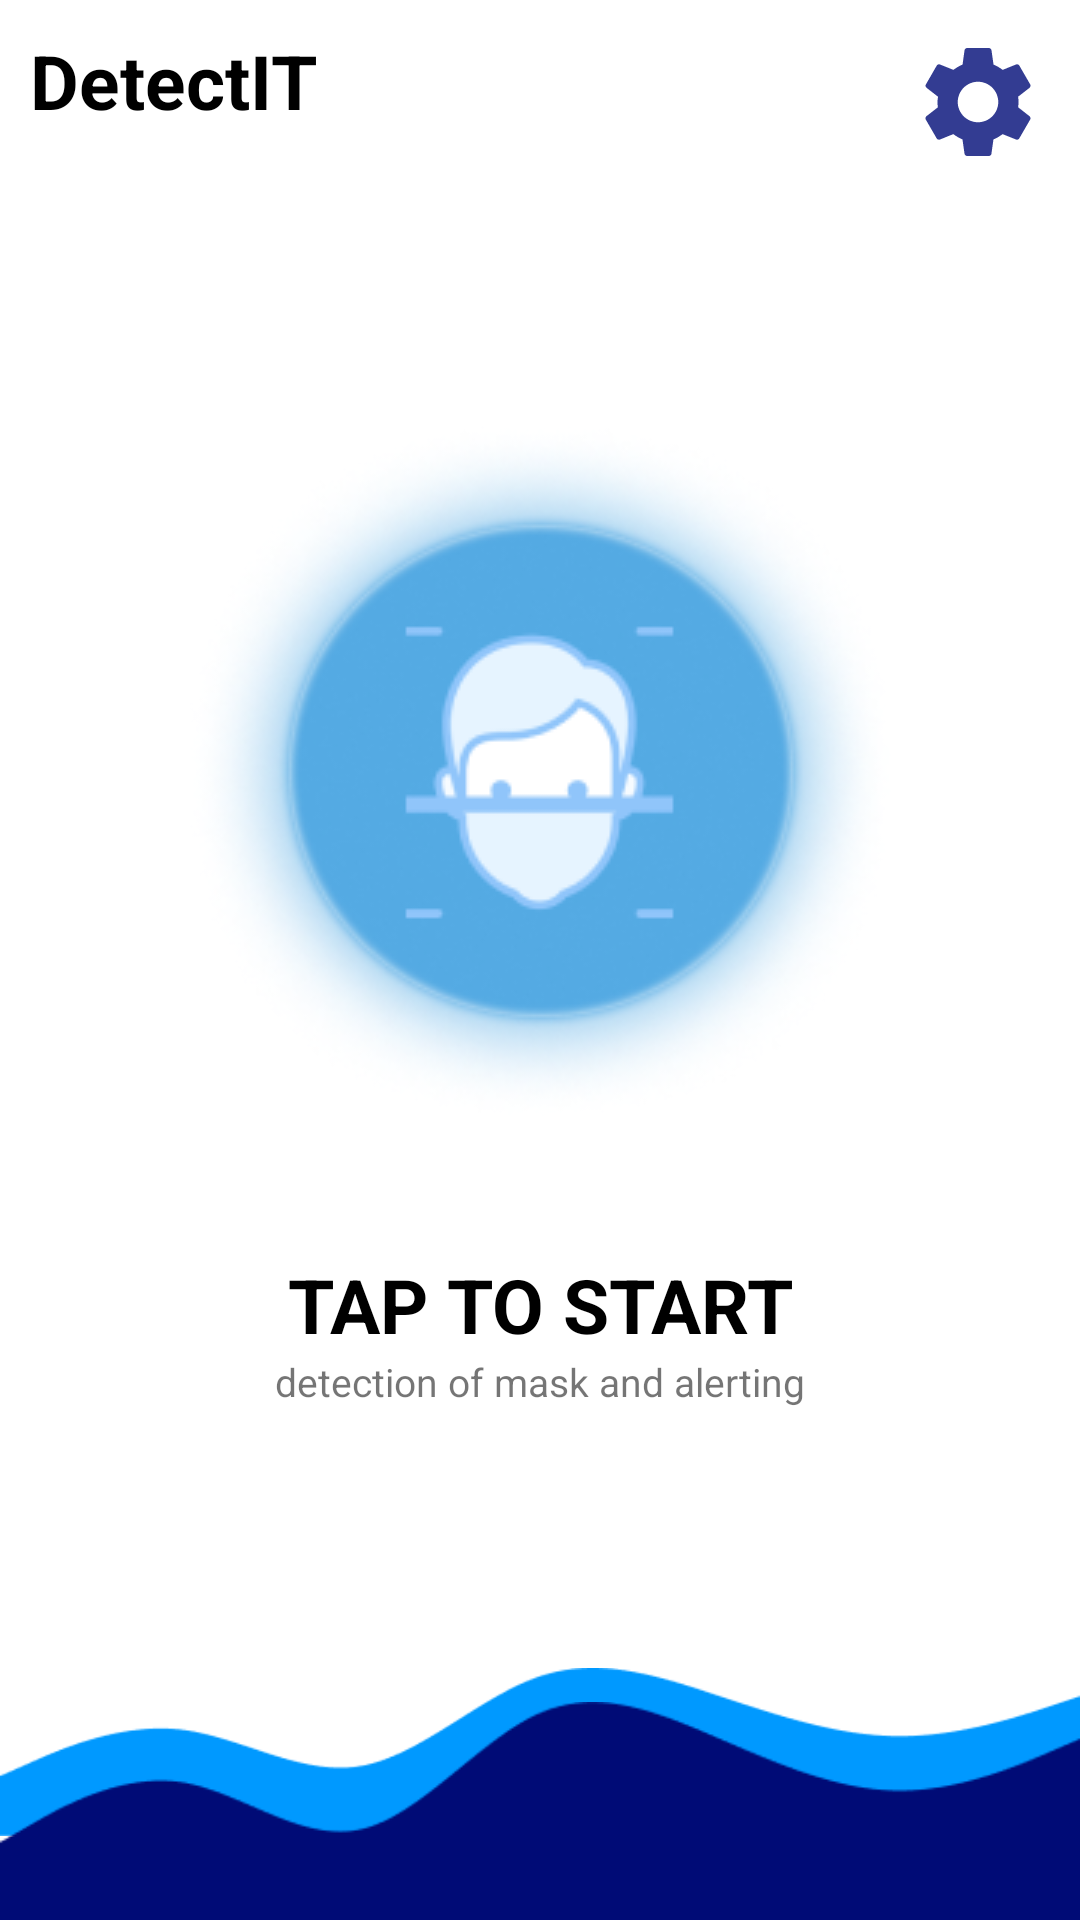

Where icons sit on this 1080px×1920px app screen, as (x1, y1, x2, y2):
setting: (925, 48, 1031, 156)
